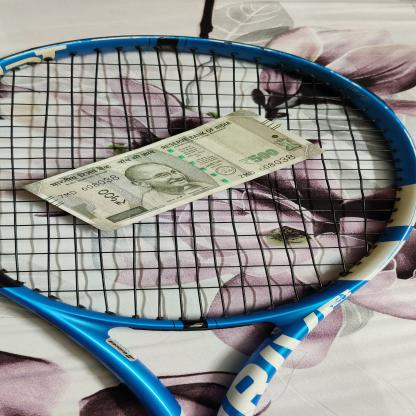New500Front: (25, 107, 328, 233)
